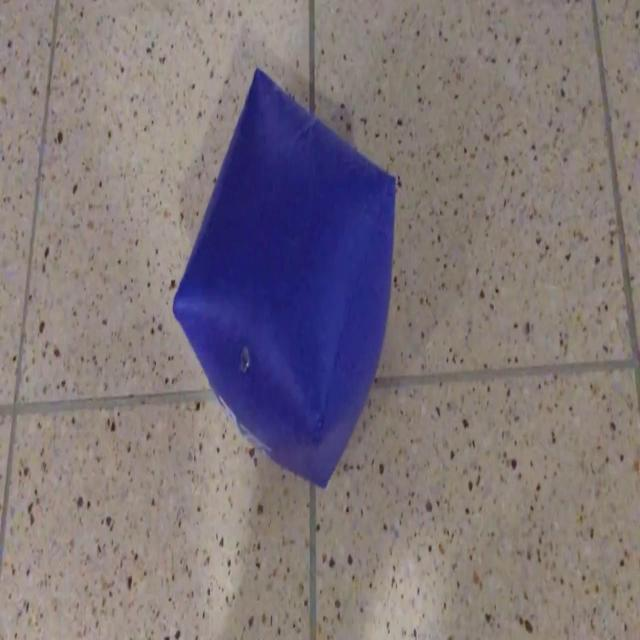frc_cube: (170, 64, 394, 485)
